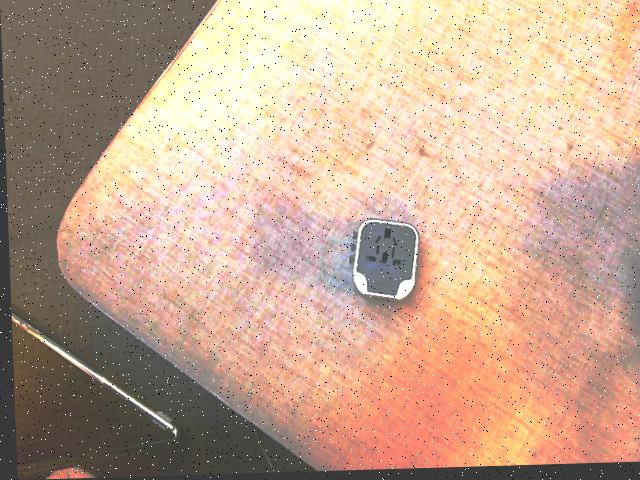adapter: (345, 219, 419, 304)
